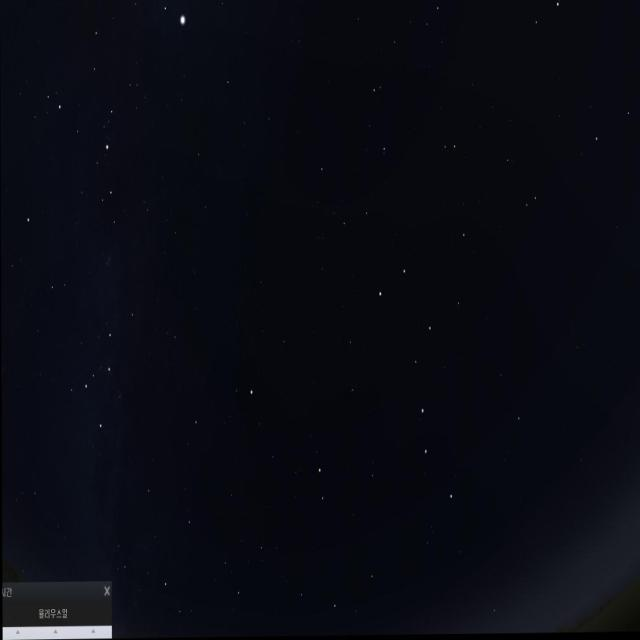cassiopeia: (81, 306, 149, 443)
ursa_major: (370, 252, 458, 510)
